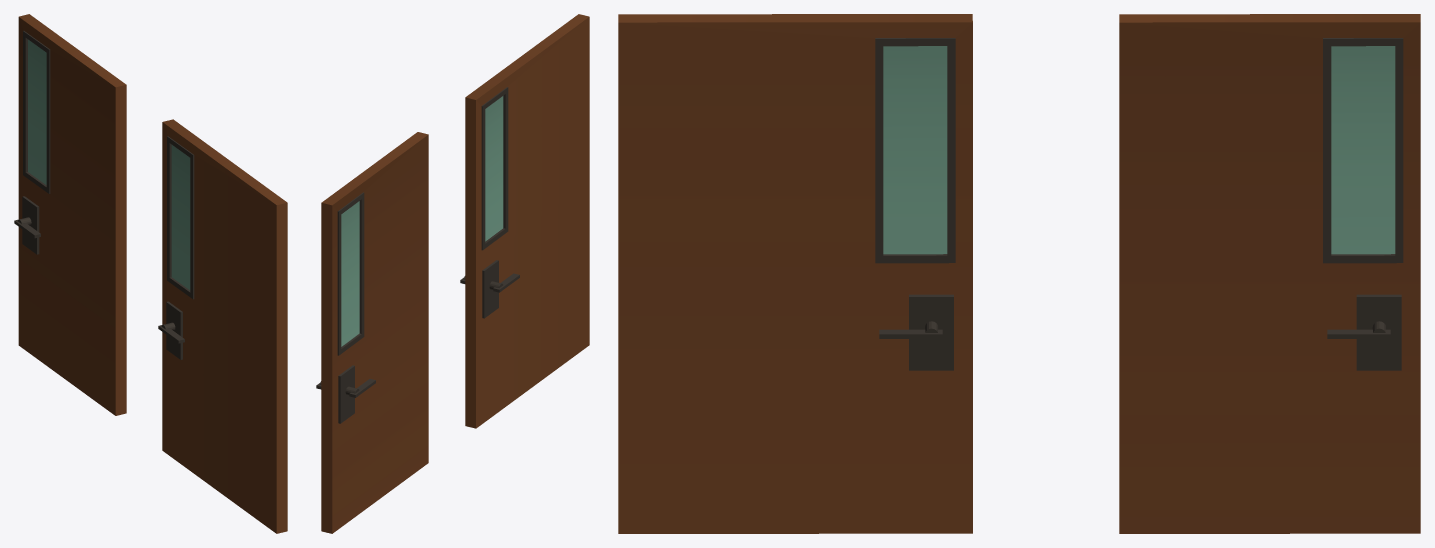
File: SM_Puerta.fbx
The picture shows the model from 3 angles, left to right: view 1: azimuth 30°, elevation 25°; view 2: azimuth 150°, elevation 25°; view 3: azimuth 270°, elevation 25°; orthographic projection. The views are drawn at different scales.
Parts seen in each view (by area): view 1: PuertaG, PuertaP; view 2: PuertaG, PuertaP; view 3: PuertaG, PuertaP.
Part boxes in pixels (x1,y1,x2,y2): PuertaG: (158, 119, 287, 533); PuertaP: (14, 14, 126, 415); PuertaG: (460, 14, 589, 428); PuertaP: (316, 132, 428, 533); PuertaG: (618, 14, 972, 533); PuertaP: (1119, 14, 1420, 533).
Size of the model in its own units: 28.29 by 226 by 321.
